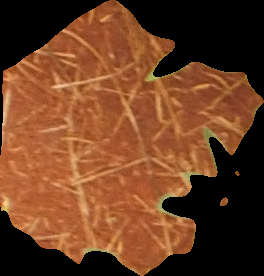soil: (1, 3, 263, 276)
